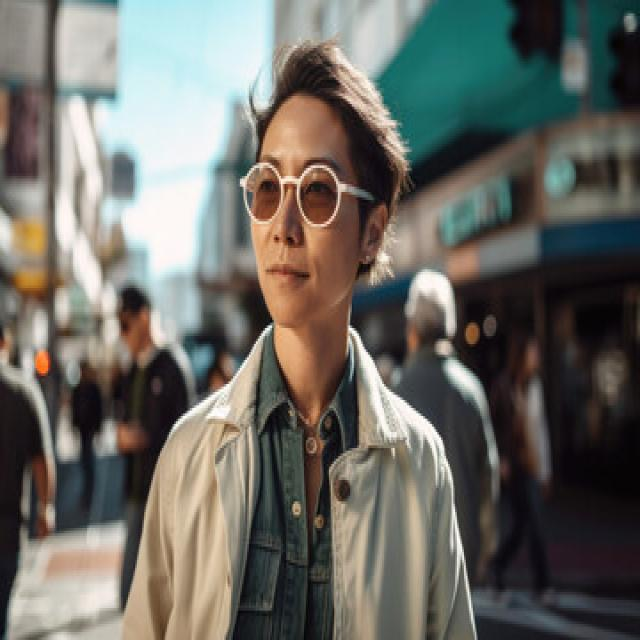person-without-mask: (113, 35, 515, 640)
